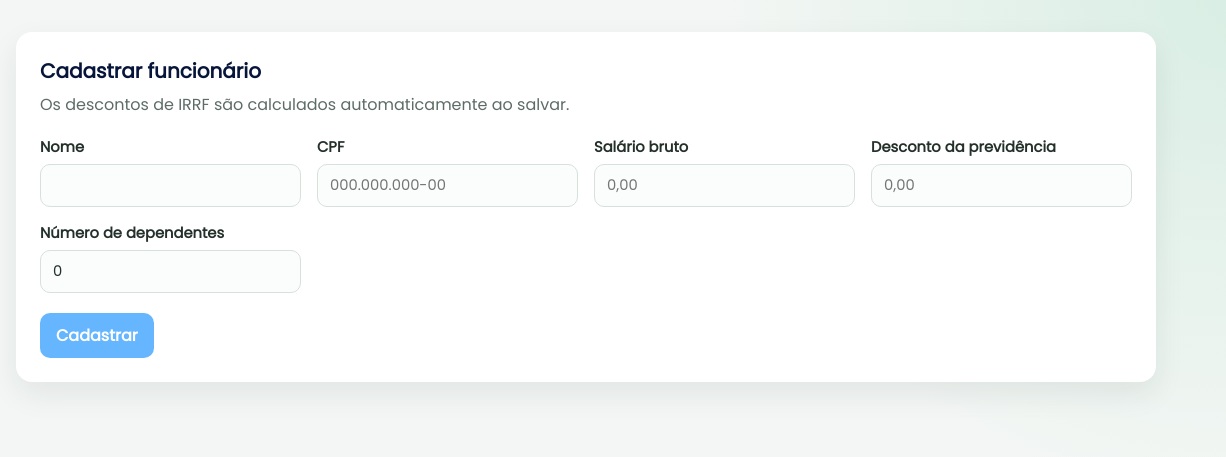
Scenario: EmployeeForm › rejeita desconto da previdência maior que o salário
The width and height of the screenshot is (1226, 457).
Type "Carlos Eduardo Lima" into the field labelled "Nome". click: (170, 186)
box: [40, 164, 301, 207]
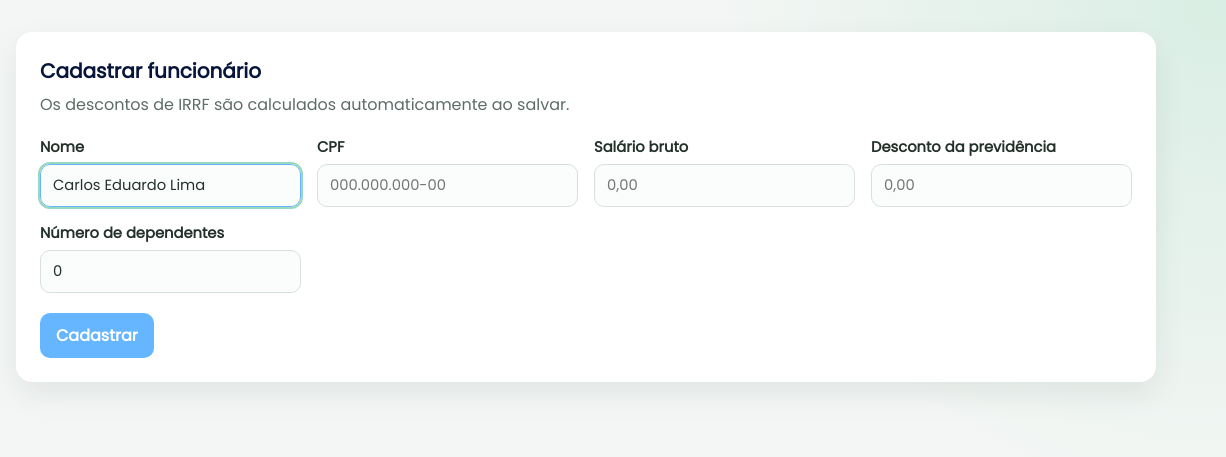
Type "39053344705" into the field labelled "CPF". click: (448, 186)
box: [317, 164, 578, 207]
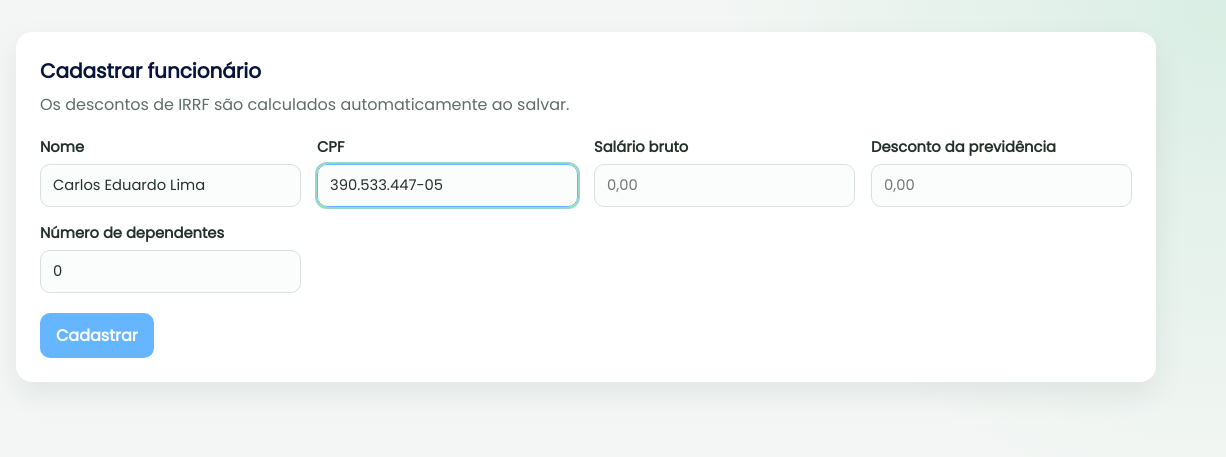
Type "1000" into the number field labelled "Salário bruto". click: (724, 186)
box: [594, 164, 855, 207]
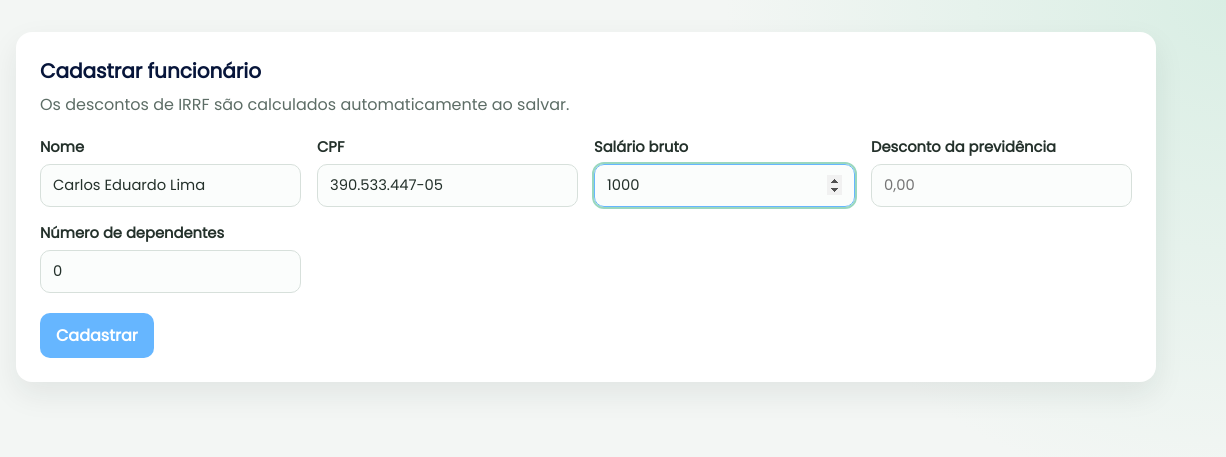
Type "1500" into the number field labelled "Desconto da previdência". click: (1002, 186)
box: [871, 164, 1132, 207]
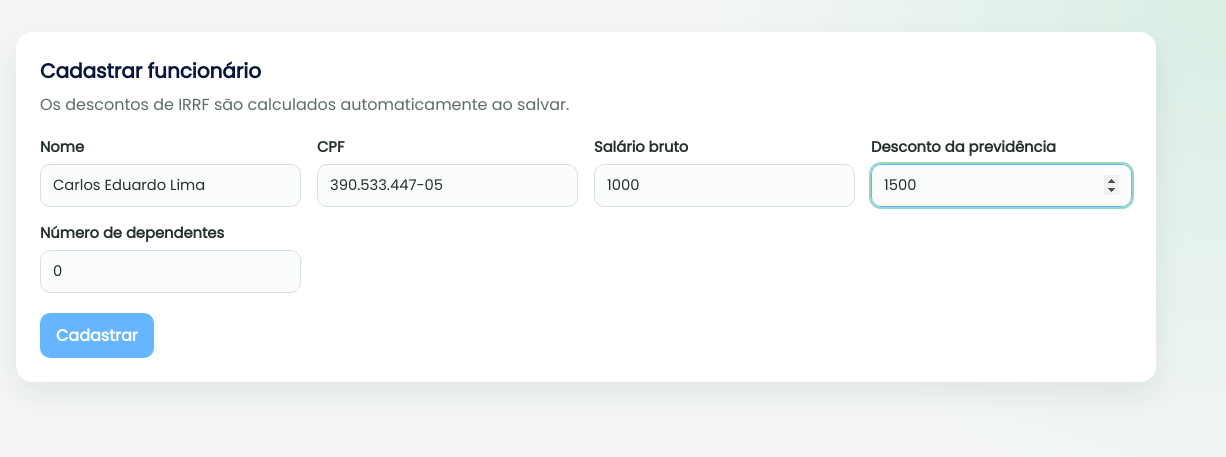
Click the button "Cadastrar". click: (97, 336)
box: [40, 313, 154, 358]
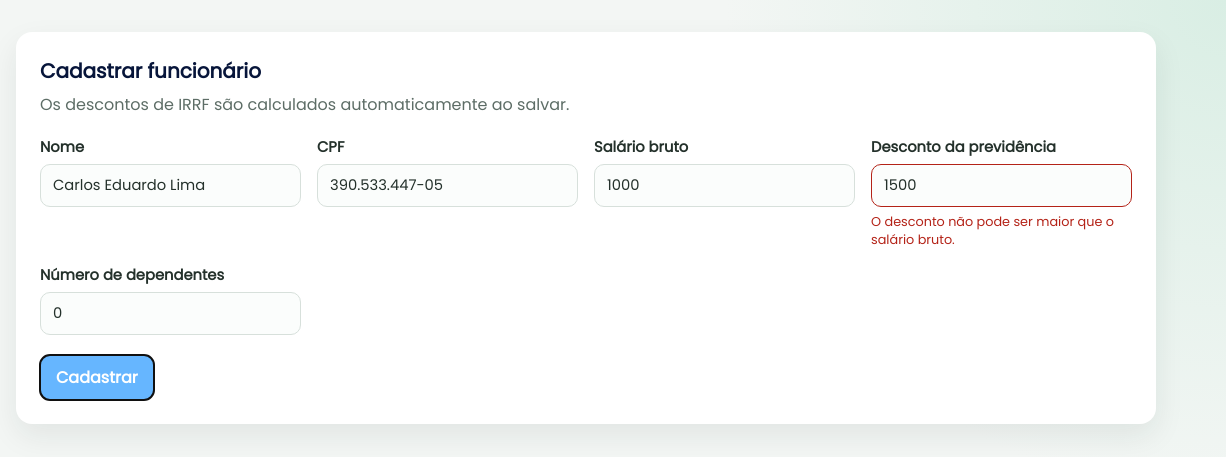
Result: the text "O desconto não pode ser maior que o salário bruto." is shown at [871, 213, 1132, 249]
